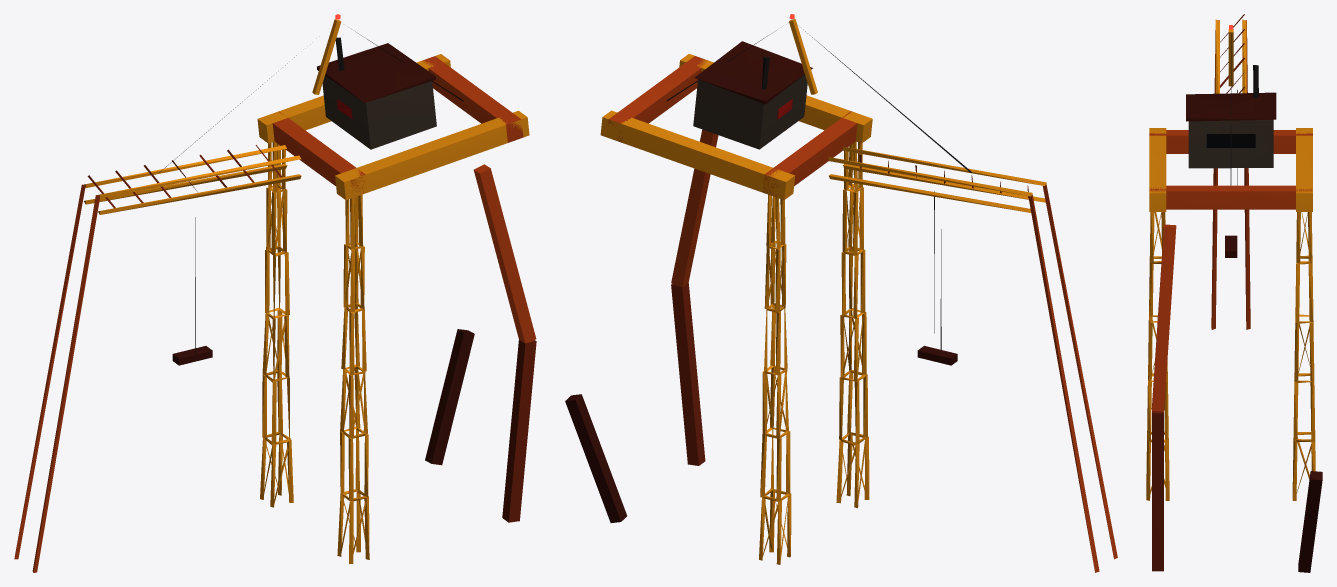
The model's file is tb_port_crane.three-web-toon.lod50.glb.
3 renders of one model, left to right at view 1: azimuth 30°, elevation 25°; view 2: azimuth 150°, elevation 25°; view 3: azimuth 270°, elevation 25°, orthographic. The views are drawn at different scales.
Parts seen in each view (by area): view 1: crane_body_lod; view 2: crane_body_lod; view 3: crane_body_lod.
Part boxes in pixels (x1,y1,x2,y2): crane_body_lod: (14, 14, 536, 572); crane_body_lod: (565, 14, 1117, 572); crane_body_lod: (1146, 14, 1322, 572).
Size of the model in its own units: 44.17 by 43.66 by 14.47.
